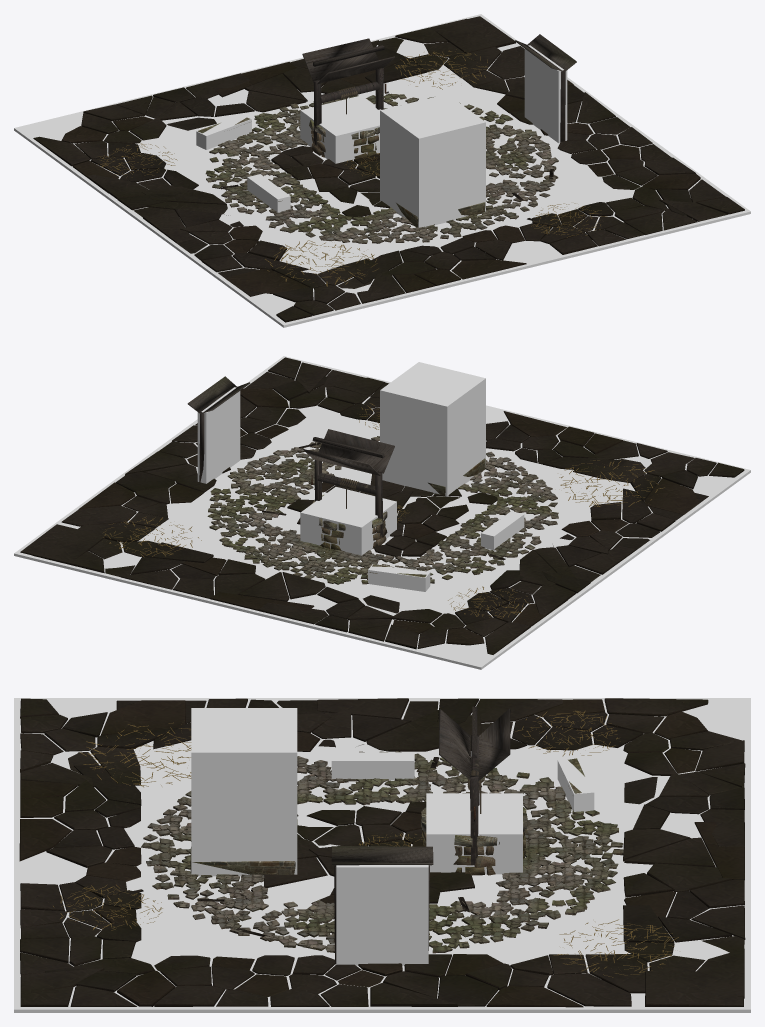
The model's file is bld_square_shared_tex.glb.
3 views of the same model, one above another, from view 1: azimuth 30°, elevation 25°; view 2: azimuth 150°, elevation 25°; view 3: azimuth 270°, elevation 25° (orthographic). The views are drawn at different scales.
Visible parts, largest first — view 1: plaza, col_plaza, col_statue, well, col_well, col_notice, decals_square, notice_board, col_bench_1, col_bench_0; view 2: plaza, col_plaza, col_statue, well, col_well, col_notice, decals_square, notice_board, col_bench_1, col_bench_0; view 3: plaza, col_plaza, col_statue, col_notice, col_well, well, decals_square, notice_board, col_bench_0, col_bench_1, statue_plinth, benches.
Boxes of the visible parts, left/top/right/bottom form: plaza: left=33, top=16, right=744, bottom=322; col_plaza: left=14, top=14, right=750, bottom=327; col_statue: left=380, top=94, right=485, bottom=227; well: left=302, top=38, right=394, bottom=158; col_well: left=300, top=95, right=381, bottom=163; col_notice: left=524, top=45, right=567, bottom=143; decals_square: left=98, top=49, right=607, bottom=286; notice_board: left=515, top=34, right=576, bottom=141; col_bench_1: left=196, top=114, right=251, bottom=149; col_bench_0: left=247, top=174, right=290, bottom=212; plaza: left=20, top=357, right=744, bottom=654; col_plaza: left=14, top=356, right=750, bottom=669; col_statue: left=380, top=362, right=485, bottom=496; well: left=303, top=429, right=394, bottom=550; col_well: left=300, top=487, right=396, bottom=555; col_notice: left=197, top=387, right=240, bottom=483; decals_square: left=103, top=403, right=664, bottom=618; notice_board: left=187, top=376, right=250, bottom=482; col_bench_1: left=368, top=564, right=430, bottom=591; col_bench_0: left=481, top=511, right=524, bottom=550; plaza: left=19, top=698, right=745, bottom=1007; col_plaza: left=14, top=698, right=750, bottom=1012; col_statue: left=191, top=708, right=297, bottom=876; col_notice: left=336, top=865, right=428, bottom=965; col_well: left=426, top=793, right=522, bottom=874; well: left=421, top=706, right=527, bottom=875; decals_square: left=53, top=710, right=678, bottom=977; notice_board: left=331, top=846, right=433, bottom=963; col_bench_0: left=331, top=752, right=414, bottom=780; col_bench_1: left=557, top=758, right=594, bottom=812; statue_plinth: left=190, top=819, right=297, bottom=874; benches: left=133, top=757, right=584, bottom=936.
Bounding box in the file's own units: 16 × 3.05 × 16.
Materials: 16 (11 with a texture image).
